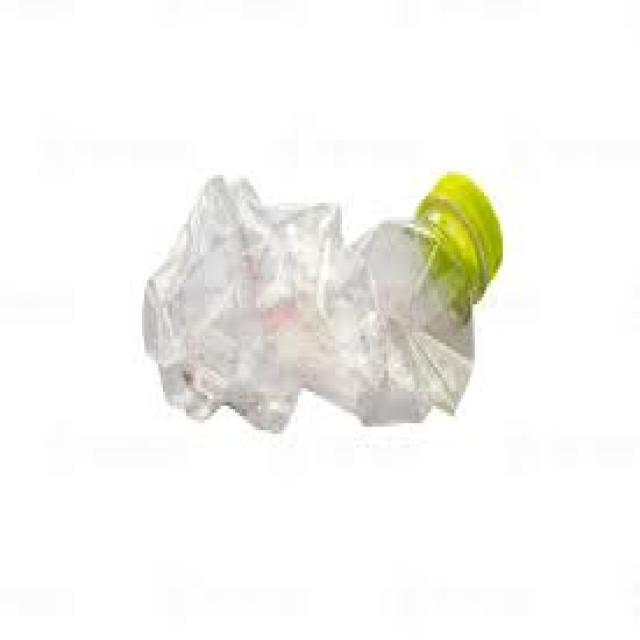defected: (132, 153, 506, 442)
